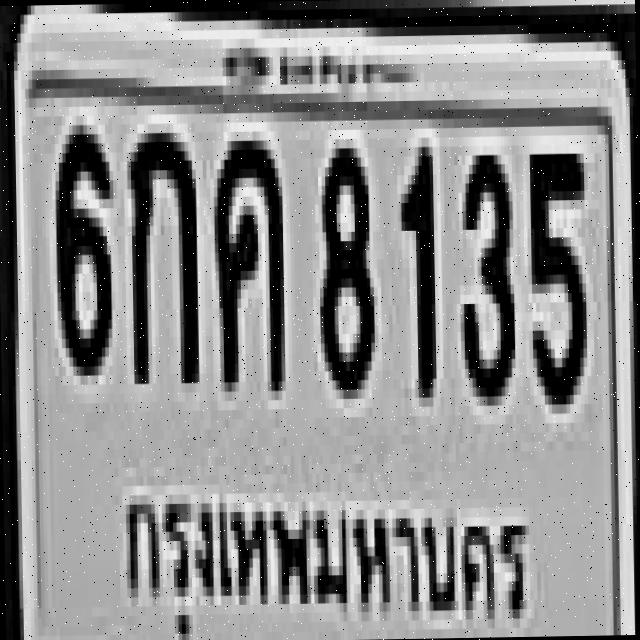1: (396, 138, 433, 388)
10GorGai: (126, 123, 195, 375)
13KhorKhwai: (209, 130, 282, 382)
3: (457, 145, 512, 396)
5: (526, 149, 584, 400)
6: (51, 115, 108, 366)
8: (314, 138, 372, 390)
Bangkok: (119, 448, 560, 640)
